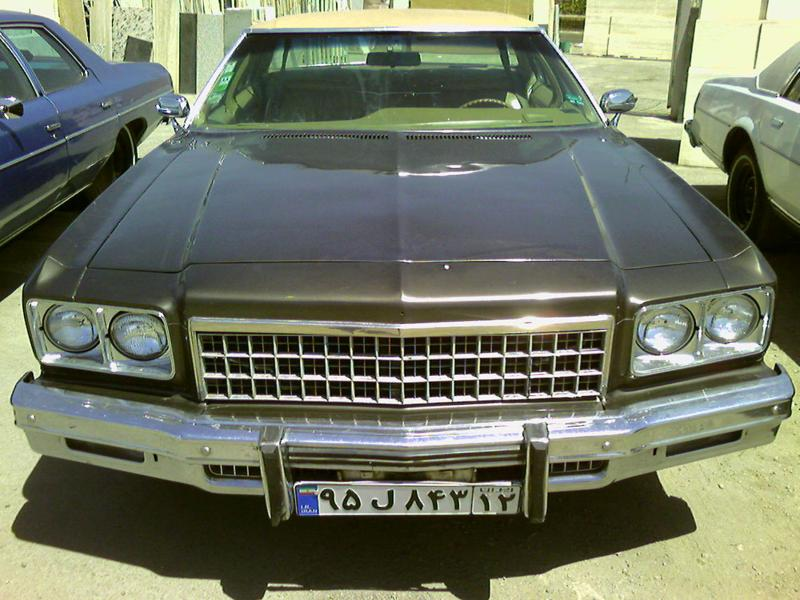Plate: (299, 474, 521, 519)
